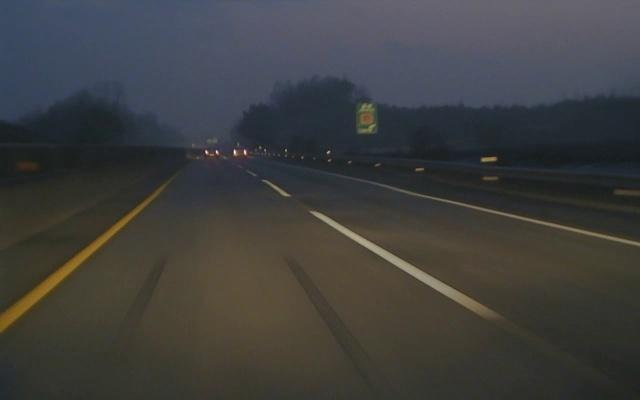lane: (252, 172, 507, 321), (2, 179, 171, 332), (354, 178, 640, 248)
